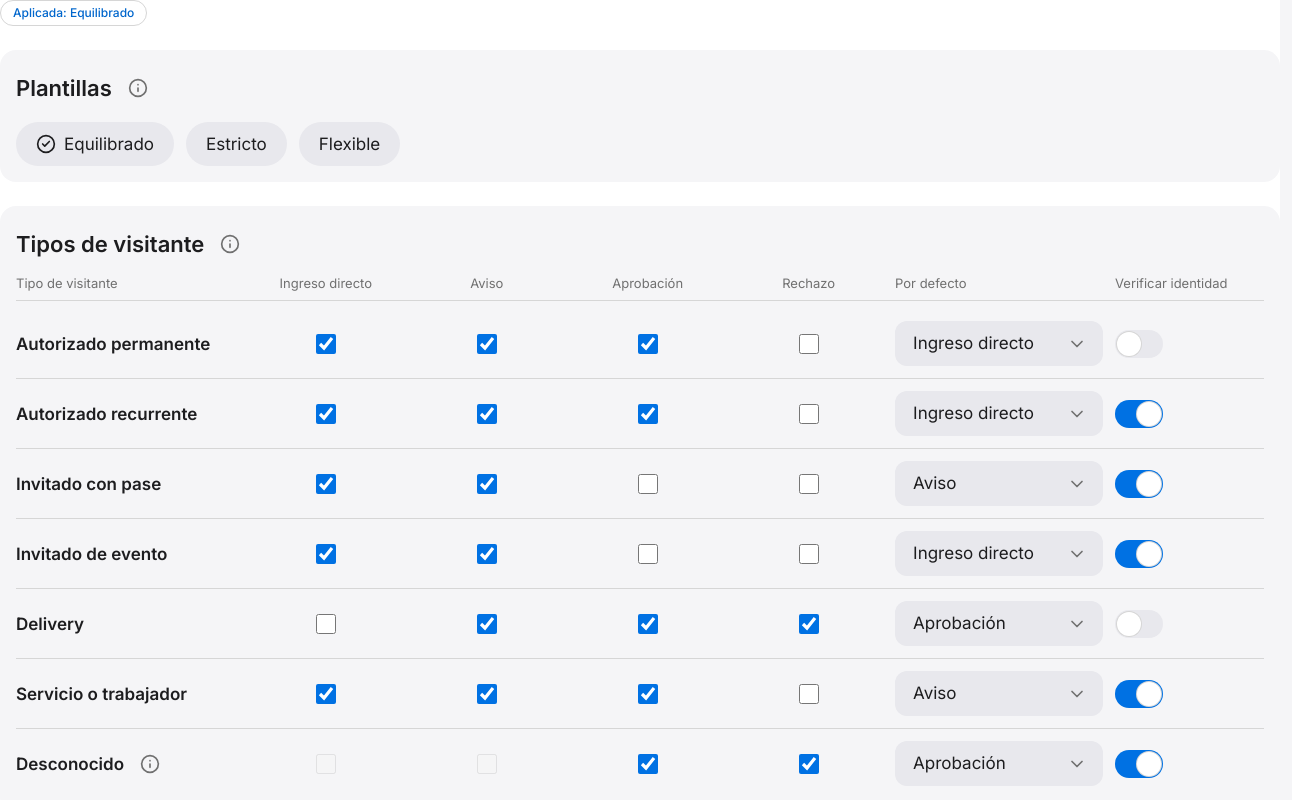
Test: PolicyEditor matrix › blocks direct entry and notice for an unknown visitor and explains why behind an info button
This screenshot has width=1292, height=800.
Click the button named "Por qué un desconocido no admite ingreso directo ni aviso" at {"x": 150, "y": 764}, box [128, 742, 172, 786]
(page scrolled)
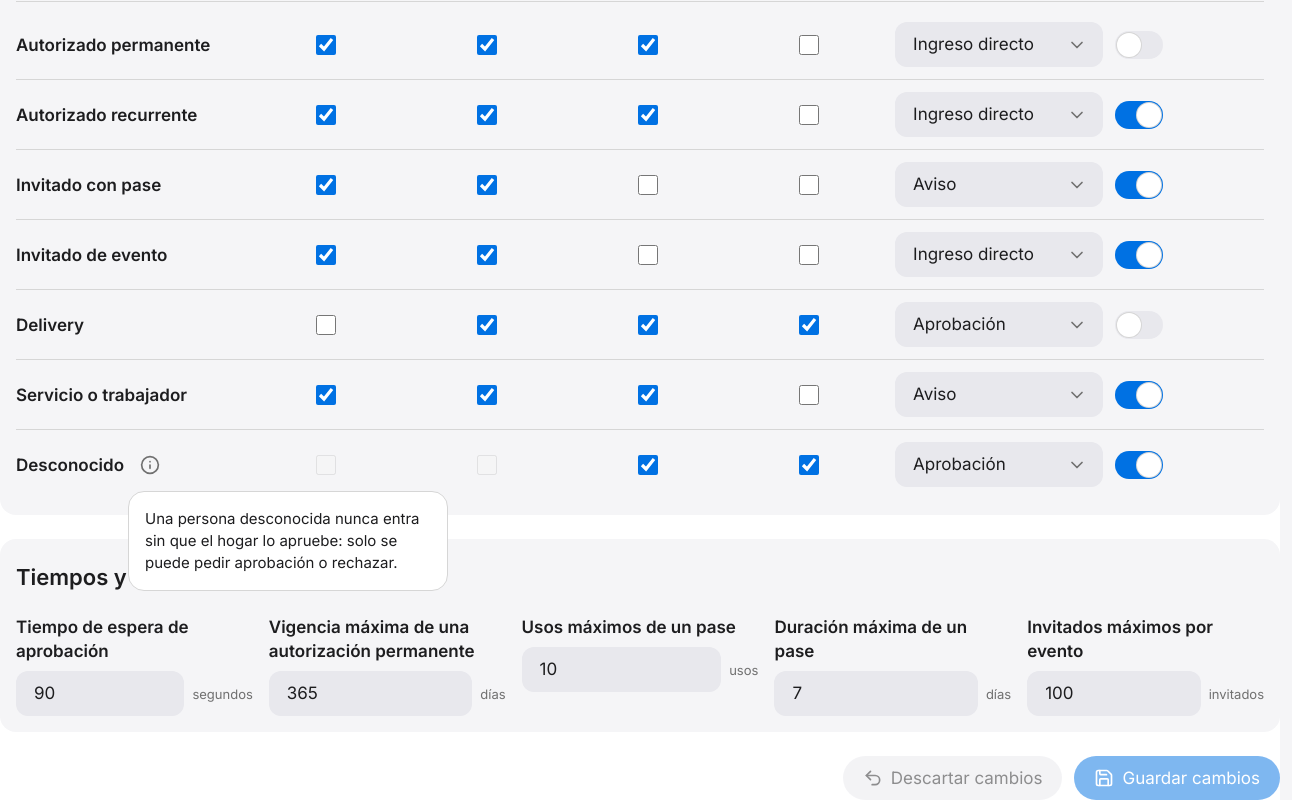
Result: the text "nunca entra sin que el hogar lo apruebe" is shown at [145, 508, 420, 572]
